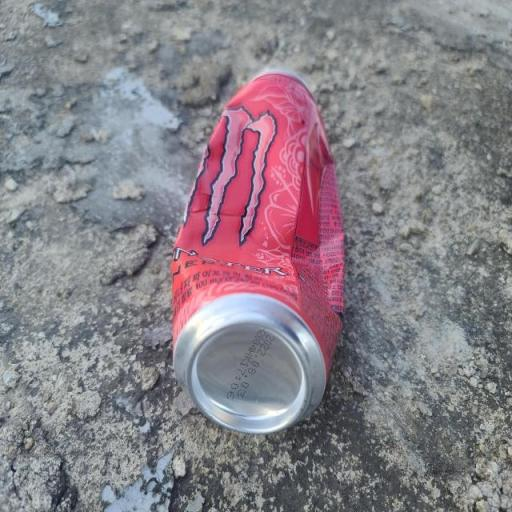metal: (156, 57, 350, 467)
